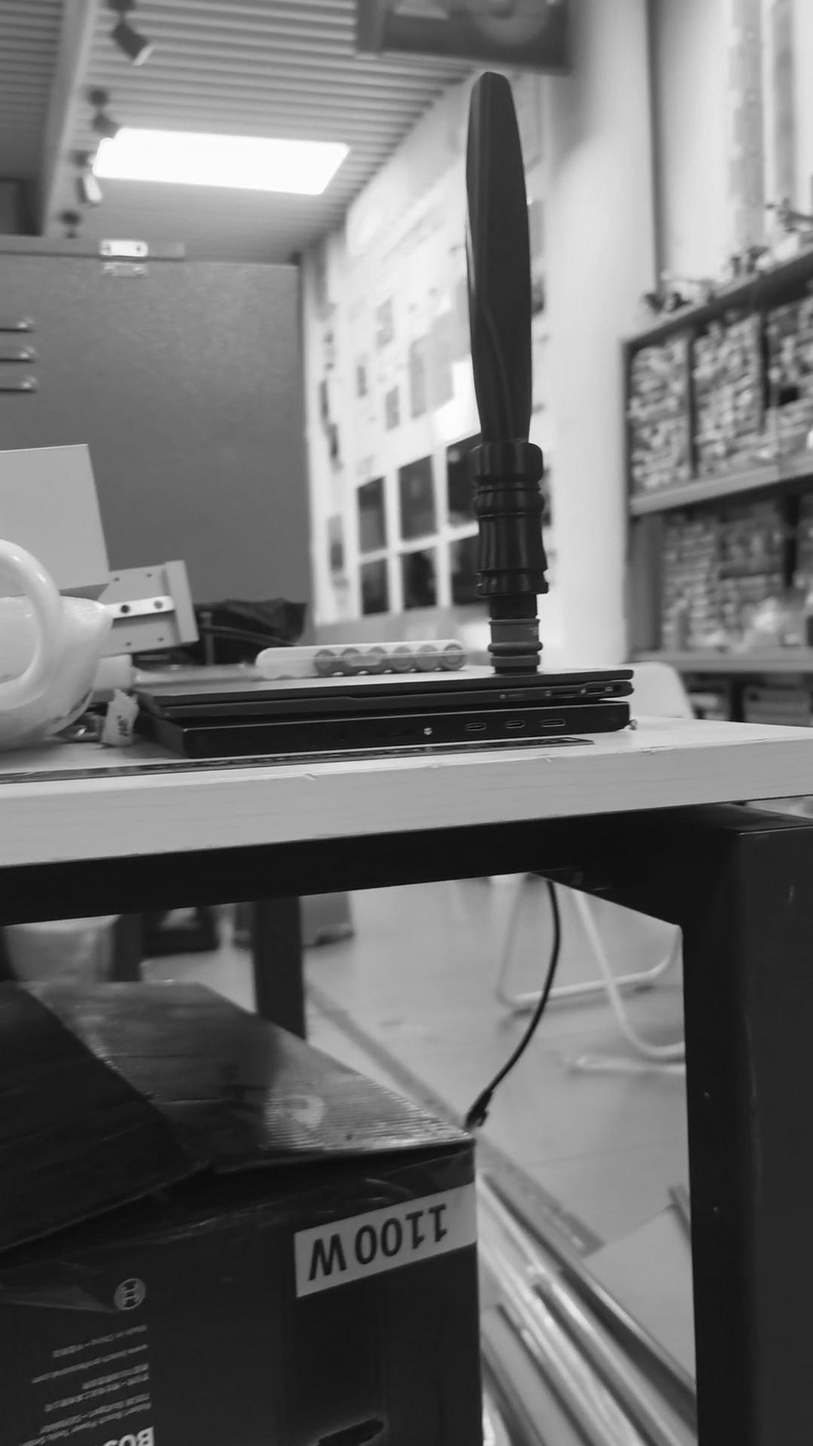base: (477, 611, 553, 685)
